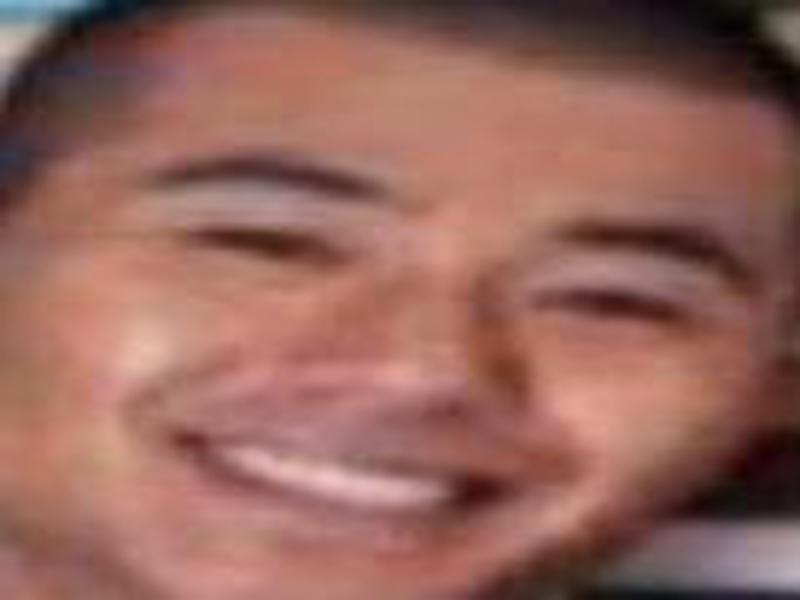without_mask: (17, 16, 778, 600)
